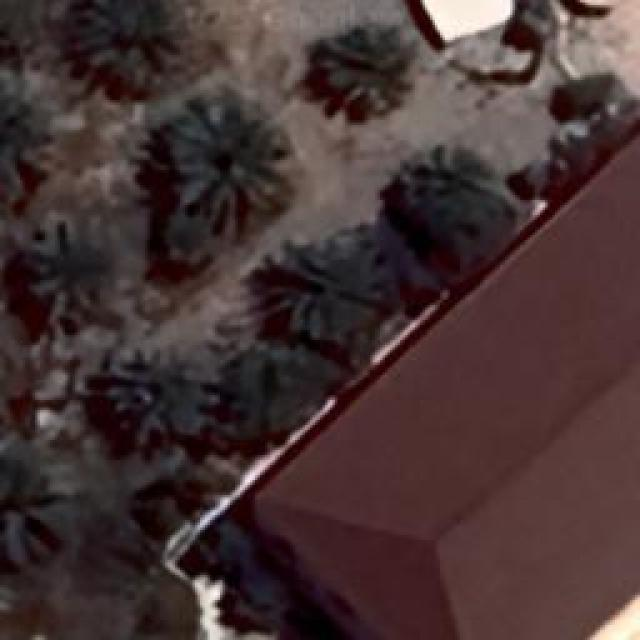PalmTree: (165, 95, 288, 230), (258, 242, 380, 340), (402, 141, 496, 261), (105, 342, 220, 440), (72, 0, 182, 85), (312, 25, 412, 115), (0, 436, 68, 562), (28, 232, 116, 318), (0, 92, 58, 198)
